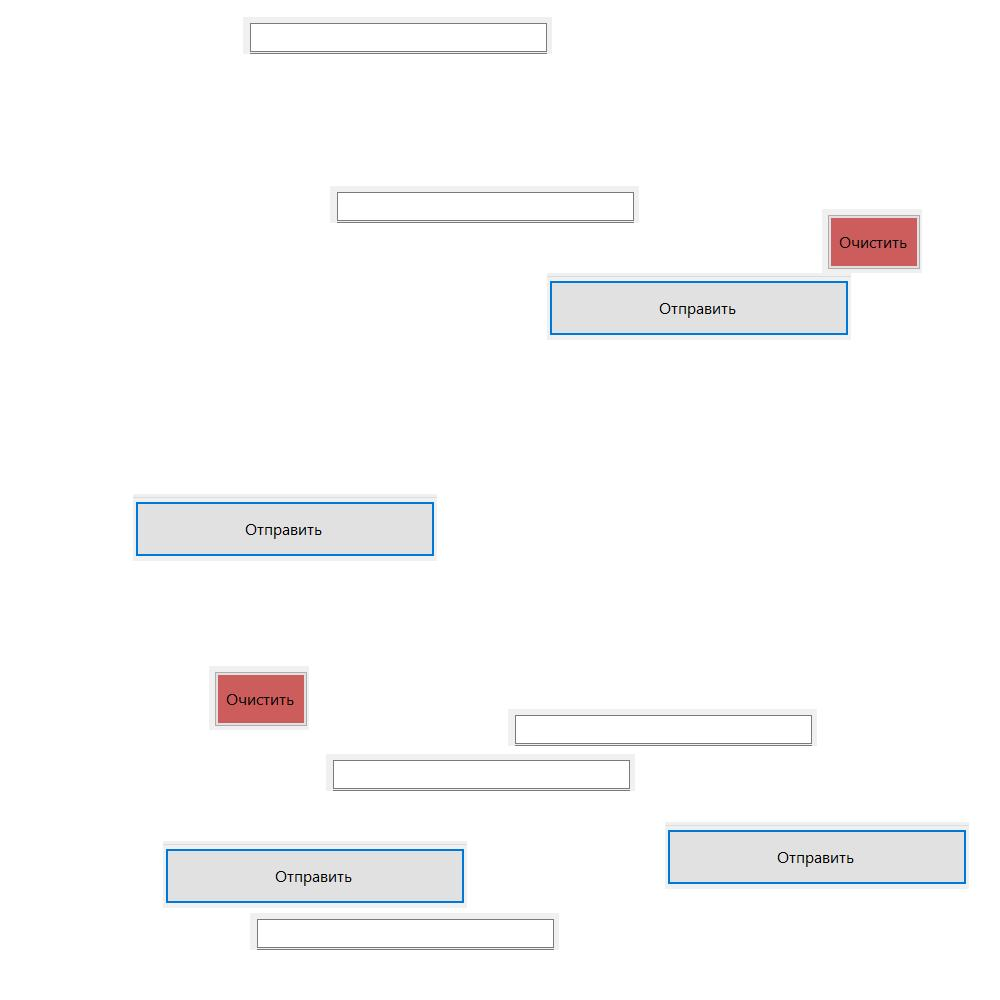Button: (133, 494, 437, 561), (665, 822, 969, 889), (547, 273, 851, 340), (163, 841, 467, 908), (822, 209, 922, 273), (209, 666, 309, 730)
EditText-: (243, 17, 552, 54), (330, 186, 639, 223), (508, 709, 817, 746), (326, 754, 635, 791), (250, 913, 559, 950)
